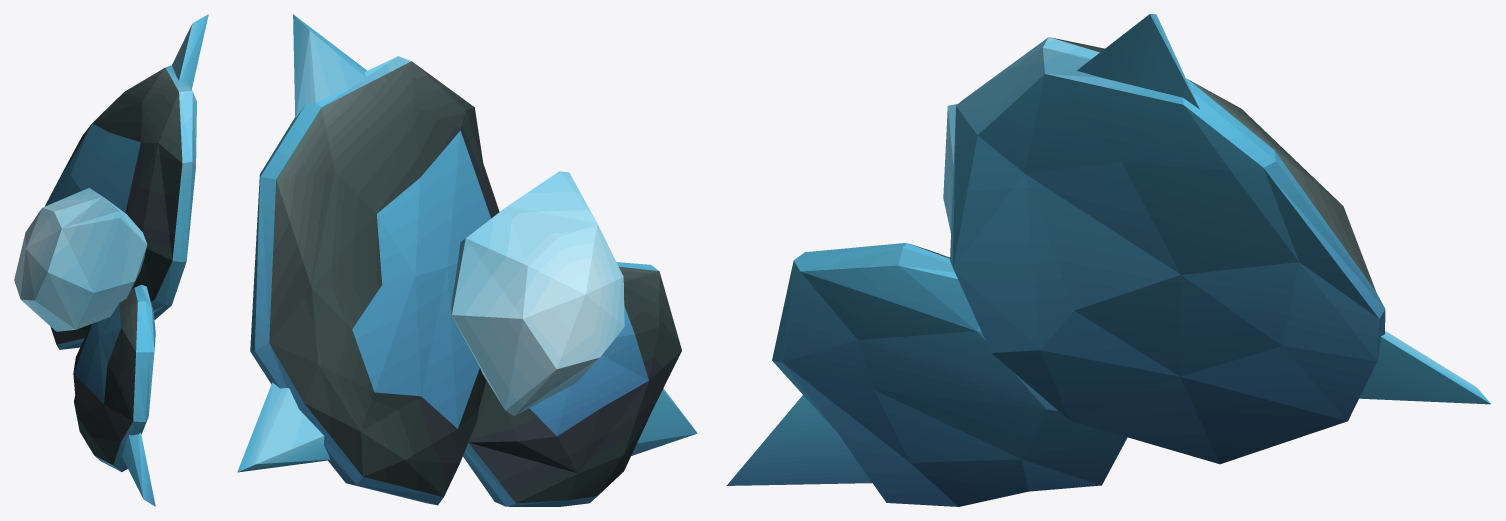
File: CharSkyKid_Horn_AP15DarkPlant_01.glb
The picture shows the model from 3 angles, left to right: view 1: azimuth 30°, elevation 25°; view 2: azimuth 150°, elevation 25°; view 3: azimuth 270°, elevation 25°; orthographic projection. The views are drawn at different scales.
Visible parts, largest first — view 1: CharSkyKid_Horn_AP15DarkPlant_01; view 2: CharSkyKid_Horn_AP15DarkPlant_01; view 3: CharSkyKid_Horn_AP15DarkPlant_01.
Boxes of the visible parts, bbox=[...] form: CharSkyKid_Horn_AP15DarkPlant_01: bbox=[14, 14, 208, 506]; CharSkyKid_Horn_AP15DarkPlant_01: bbox=[237, 14, 697, 506]; CharSkyKid_Horn_AP15DarkPlant_01: bbox=[726, 14, 1490, 506].
Size of the model in its own units: 0.8281 by 1.37 by 1.51.
1 material, 1 textured.
